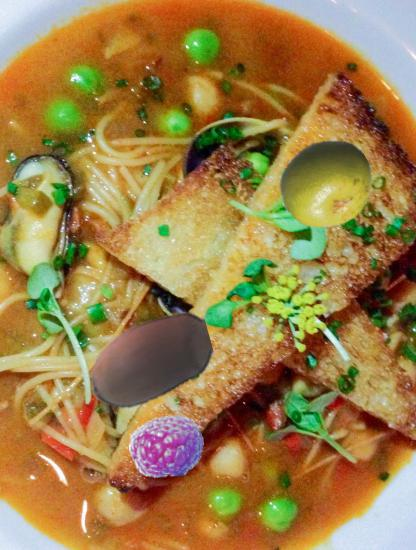Hazelnut: (82, 296, 214, 428)
Pomelo: (279, 137, 375, 233)
Raspberry: (129, 409, 205, 485)
